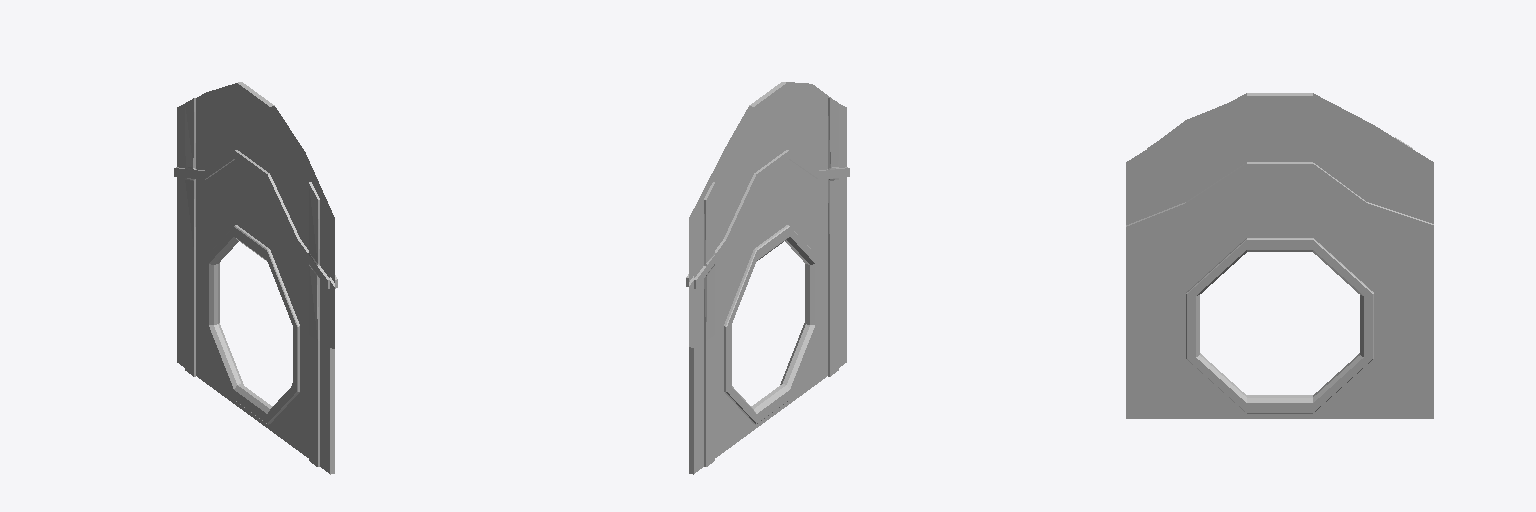
The model's file is HallExitCircle.obj.
3 renders of one model, left to right at view 1: azimuth 30°, elevation 25°; view 2: azimuth 150°, elevation 25°; view 3: azimuth 270°, elevation 25°, orthographic.
Parts seen in each view (by area): view 1: HouseExitCircle_Cylinder.013; view 2: HouseExitCircle_Cylinder.013; view 3: HouseExitCircle_Cylinder.013.
Boxes of the visible parts, <box> form: HouseExitCircle_Cylinder.013: <box>174,82,337,474</box>; HouseExitCircle_Cylinder.013: <box>686,82,849,474</box>; HouseExitCircle_Cylinder.013: <box>1126,93,1433,418</box>.
Bounding box in the file's own units: 0.2887 × 8.23 × 7.1.